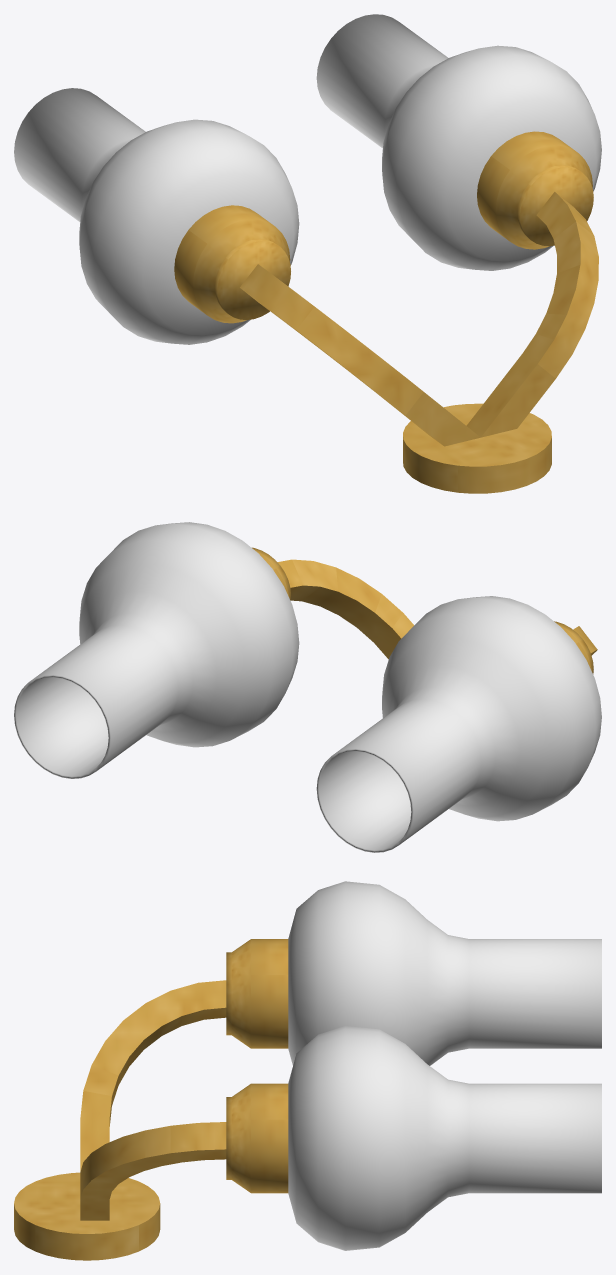
Rendered from LampOilWallMounting.fbx.
3 views of the same model, one above another, from view 1: azimuth 30°, elevation 25°; view 2: azimuth 150°, elevation 25°; view 3: azimuth 270°, elevation 25° (orthographic). The views are drawn at different scales.
Visible parts, largest first — view 1: Circle; view 2: Circle; view 3: Circle.
Boxes of the visible parts, left/top/right/bottom form: Circle: left=14, top=14, right=601, bottom=493; Circle: left=14, top=522, right=601, bottom=852; Circle: left=14, top=881, right=601, bottom=1260.
Bounding box in the file's own units: 0.388 × 0.2002 × 0.402.
